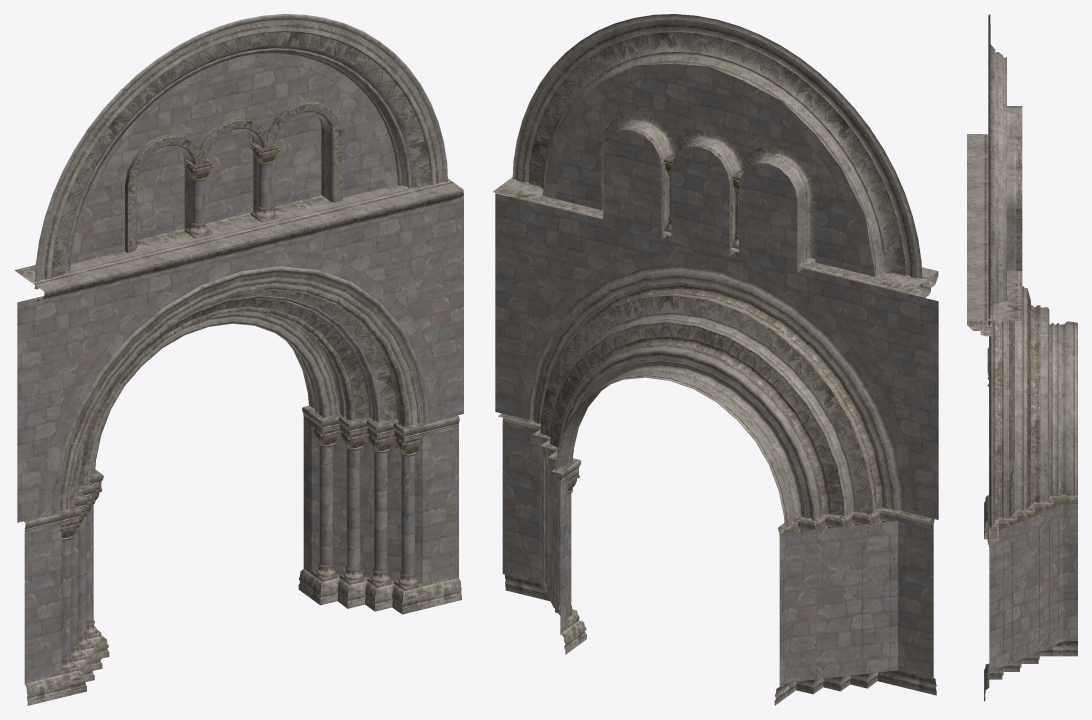
The picture shows the model from 3 angles, left to right: view 1: azimuth 30°, elevation 25°; view 2: azimuth 150°, elevation 25°; view 3: azimuth 270°, elevation 25°; orthographic projection. The views are drawn at different scales.
Parts seen in each view (by area): view 1: SM_Portal01_LOD0; view 2: SM_Portal01_LOD0; view 3: SM_Portal01_LOD0.
Boxes of the visible parts, <box> form: SM_Portal01_LOD0: <box>14,14,463,705</box>; SM_Portal01_LOD0: <box>493,14,938,705</box>; SM_Portal01_LOD0: <box>967,14,1077,701</box>.
Size of the model in its own units: 7.8 by 10.53 by 1.84.
Materials: 3 (3 with a texture image).
